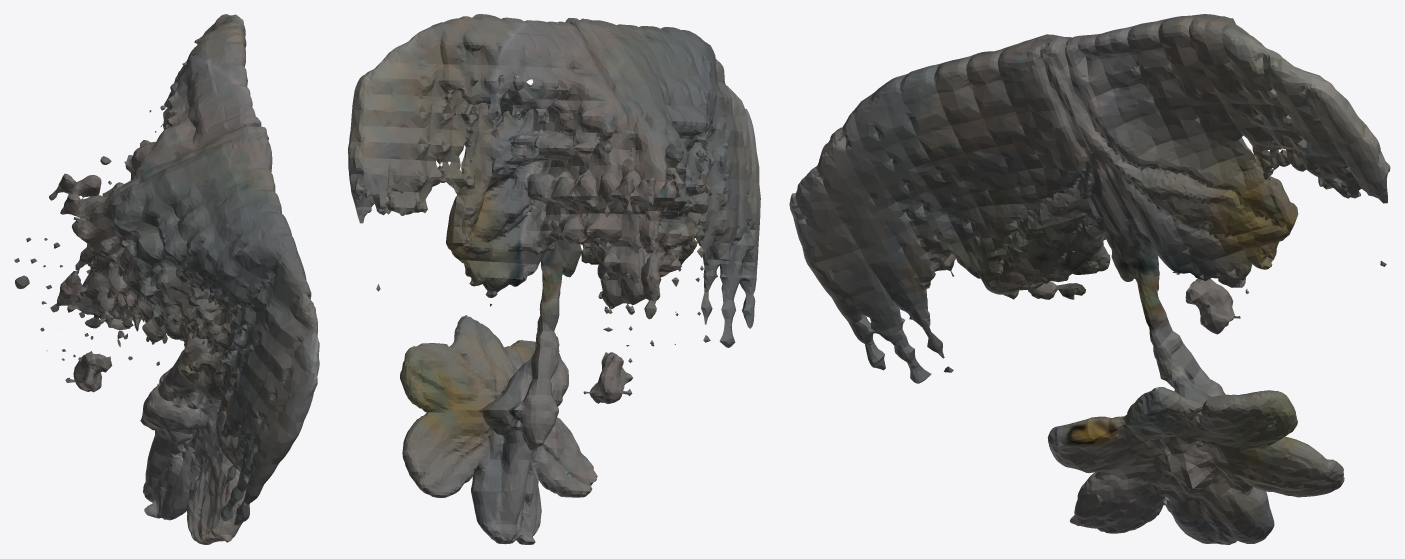
Rendered from flower_gold.glb.
3 views of the same model, side by side, from view 1: azimuth 30°, elevation 25°; view 2: azimuth 150°, elevation 25°; view 3: azimuth 270°, elevation 25° (orthographic). The views are drawn at different scales.
Visible parts, largest first — view 1: world; view 2: world; view 3: world.
Part boxes in pixels (x1,y1,x2,y2): world: (14,14,319,544); world: (348,14,760,544); world: (789,14,1390,544).
Bounding box in the file's own units: 0.3128 × 0.55 × 0.5323.
Materials: 1 (1 with a texture image).
